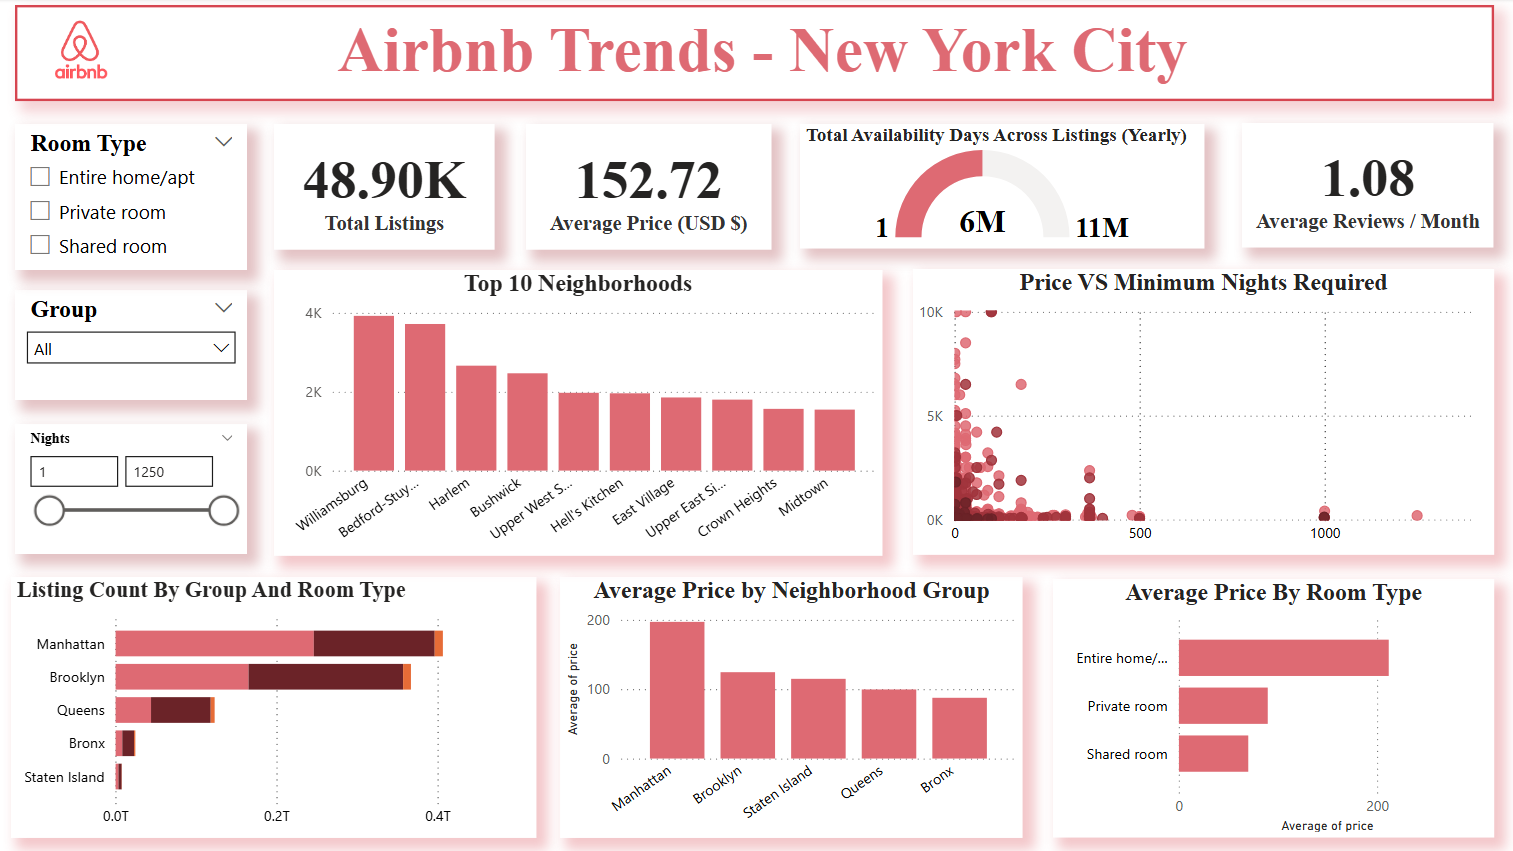

This screenshot's page, from the dashboard's own definition file:
{"tool":"powerbi","page":{"name":"Page 1","canvas":[1280,720],"ordinal":0},"visuals":[{"type":"textbox","box":[12.6,0,1240.2,86.8],"z":0},{"type":"image","box":[30,0,85,87],"z":1000},{"type":"card","fields":{"Values":["CountNonNull(AB_NYC_2019.id)"]},"box":[234.9,106.1,185.9,106.1],"z":2000},{"type":"card","fields":{"Values":["Avg(AB_NYC_2019.reviews_per_month)"]},"box":[1041.5,106.4,211.9,105.4],"z":3000},{"type":"card","fields":{"Values":["Avg(AB_NYC_2019.price)"]},"box":[448,106.1,206.8,106.1],"z":4000},{"type":"gauge","title":"Total Availability Days Across Listings (Yearly)","fields":{"Y":["Sum(AB_NYC_2019.availability_365)"]},"box":[678.9,106.4,340.9,105.4],"z":5000},{"type":"slicer","fields":{"Values":["AB_NYC_2019.room_type"]},"box":[4.5,106.1,195.9,123.3],"z":6000},{"type":"slicer","fields":{"Values":["AB_NYC_2019.neighbourhood_group"]},"box":[4.5,246.6,195.9,93.4],"z":7000},{"type":"slicer","fields":{"Values":["AB_NYC_2019.minimum_nights"]},"box":[4.5,360,195.9,110.6],"z":8000},{"type":"clusteredBarChart","title":"Average Price By Room Type","fields":{"Category":["AB_NYC_2019.room_type"],"Y":["Avg(AB_NYC_2019.price)"]},"box":[881.9,489.7,371.5,218.8],"z":9000},{"type":"clusteredColumnChart","title":"Average Price by Neighborhood Group","fields":{"Category":["AB_NYC_2019.neighbourhood_group"],"Y":["Avg(AB_NYC_2019.price)"]},"box":[469,487.8,390.2,220.7],"z":10000},{"type":"barChart","title":"Listing Count By Group And Room Type","fields":{"Category":["AB_NYC_2019.neighbourhood_group"],"Y":["Sum(AB_NYC_2019.id)"],"Series":["AB_NYC_2019.room_type"]},"box":[4.2,489.8,443.5,220],"z":11000},{"type":"scatterChart","title":"Price VS Minimum Nights Required","fields":{"Y":["Sum(AB_NYC_2019.price)"],"X":["Sum(AB_NYC_2019.minimum_nights)"],"Category":["AB_NYC_2019.id"],"Series":["AB_NYC_2019.room_type"]},"box":[763.7,228.6,489.7,241.4],"z":12000},{"type":"columnChart","title":"Top 10 Neighborhoods","fields":{"Category":["AB_NYC_2019.neighbourhood"],"Y":["CountNonNull(AB_NYC_2019.id)"]},"box":[220.4,229.4,512.3,241.2],"z":13000}]}

Visuals, with their boxes in screenshot pixels (x1, y1, x2, y2), scaled from the page's 1280x720 canvas onto the 1513x851 screenshot:
textbox: select_region(15, 0, 1481, 103)
image: select_region(35, 0, 136, 103)
card - CountNonNull(AB_NYC_2019.id): select_region(278, 125, 497, 251)
card - Avg(AB_NYC_2019.reviews_per_month): select_region(1231, 126, 1482, 250)
card - Avg(AB_NYC_2019.price): select_region(530, 125, 774, 251)
"Total Availability Days Across Listings (Yearly)" gauge: select_region(802, 126, 1205, 250)
slicer - AB_NYC_2019.room_type: select_region(5, 125, 237, 271)
slicer - AB_NYC_2019.neighbourhood_group: select_region(5, 291, 237, 402)
slicer - AB_NYC_2019.minimum_nights: select_region(5, 426, 237, 556)
"Average Price By Room Type" clusteredBarChart: select_region(1042, 579, 1482, 837)
"Average Price by Neighborhood Group" clusteredColumnChart: select_region(554, 577, 1016, 837)
"Listing Count By Group And Room Type" barChart: select_region(5, 579, 529, 839)
"Price VS Minimum Nights Required" scatterChart: select_region(903, 270, 1482, 556)
"Top 10 Neighborhoods" columnChart: select_region(261, 271, 866, 556)
